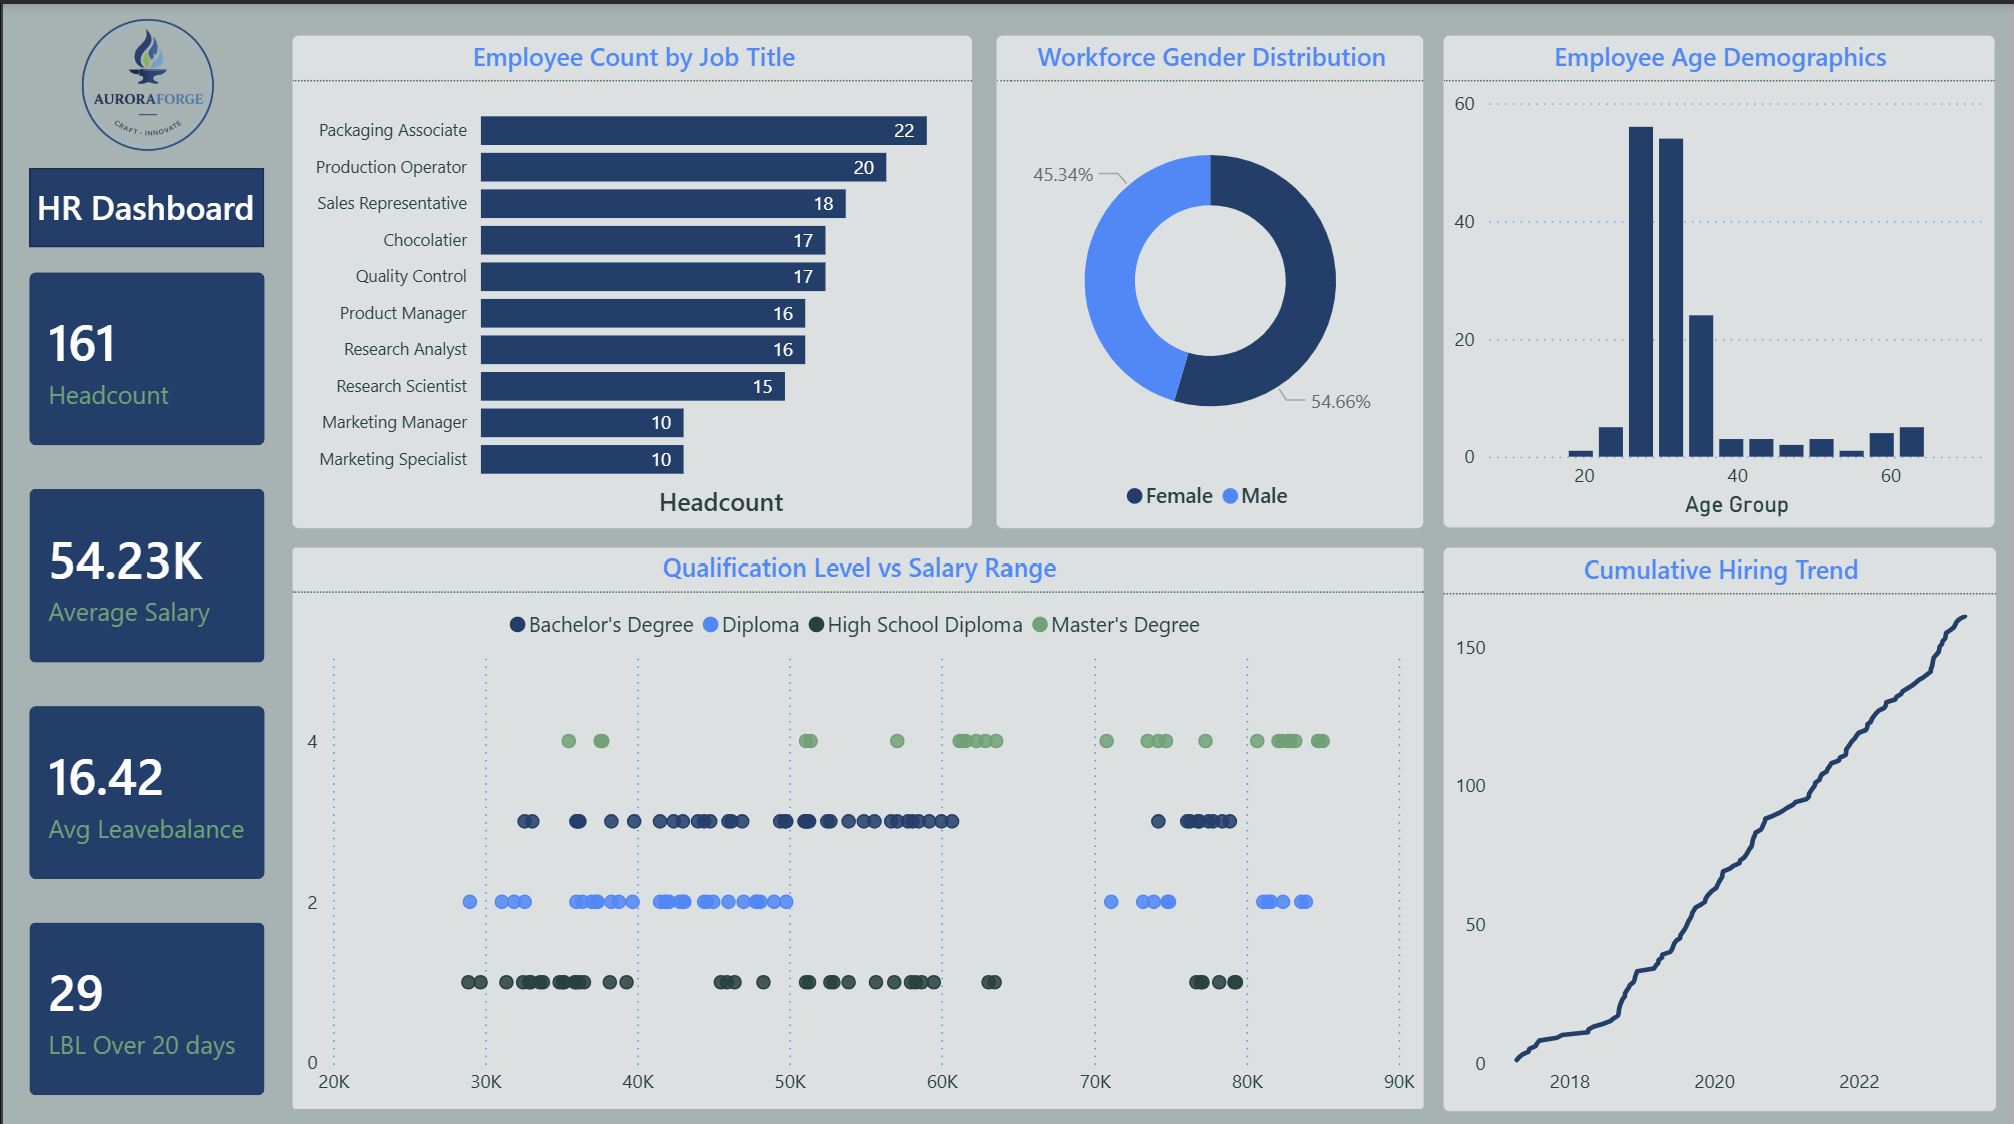

What the dashboard file says about the page in this screenshot:
{"tool":"powerbi","page":{"name":"Page 6","canvas":[1290,720],"ordinal":0},"visuals":[{"type":"cardVisual","fields":{"Data":["staff.Headcount","Avg(staff.Salary)","Avg(staff.Leave Balance)","staff.LBL Over 20 days"]},"box":[0,155.5,185,564.1],"z":0},{"type":"clusteredBarChart","title":" Employee Count by Job Title","fields":{"Y":["staff.Head Count"],"Category":["staff.Job Title"]},"box":[184.9,19.1,438.6,318.7],"z":1000},{"type":"donutChart","title":"Workforce Gender Distribution","fields":{"Y":["staff.Head Count"],"Category":["staff.Gender"]},"box":[637.5,19.1,275.4,318.7],"z":2000},{"type":"clusteredColumnChart","title":"Employee Age Demographics","fields":{"Y":["staff.Headcount"],"Category":["staff.Age (bins) 2"]},"box":[924.2,19.6,355.8,318],"z":3000},{"type":"scatterChart","title":"Qualification Level vs Salary Range","fields":{"Y":["Qualification Level.Qualification Level"],"X":["staff.Salary"],"Series":["Qualification Level.Qualification"]},"box":[184.9,348,728,362.1],"z":4000},{"type":"lineChart","title":"Cumulative Hiring Trend ","fields":{"Y":["staff.Cumulative Headcount"],"Category":["staff.Date of Join"]},"box":[924.3,348,357,363.3],"z":5000},{"type":"group","id":"g1","title":"Group 1","box":[16.7,105.4,151.6,56.5],"z":6000},{"type":"shape","box":[16.7,105.4,151.2,50.8],"z":6000,"group":"g1"},{"type":"image","box":[9,0,168.3,105.4],"z":7000},{"type":"textbox","box":[16.7,110.5,151.6,51.4],"z":7000,"group":"g1"}]}

Visuals, with their boxes in screenshot pixels (x1, y1, x2, y2), scaled from the page's 1290x720 canvas onto the 2014x1124 screenshot:
cardVisual - staff.Headcount x Avg(staff.Salary): 0, 243, 289, 1123
" Employee Count by Job Title" clusteredBarChart: 289, 30, 973, 527
"Workforce Gender Distribution" donutChart: 995, 30, 1425, 527
"Employee Age Demographics" clusteredColumnChart: 1443, 31, 1998, 527
"Qualification Level vs Salary Range" scatterChart: 289, 543, 1425, 1109
"Cumulative Hiring Trend " lineChart: 1443, 543, 2000, 1110
"Group 1" group: 26, 165, 263, 253
shape: 26, 165, 262, 244
image: 14, 0, 277, 165
textbox: 26, 173, 263, 253
